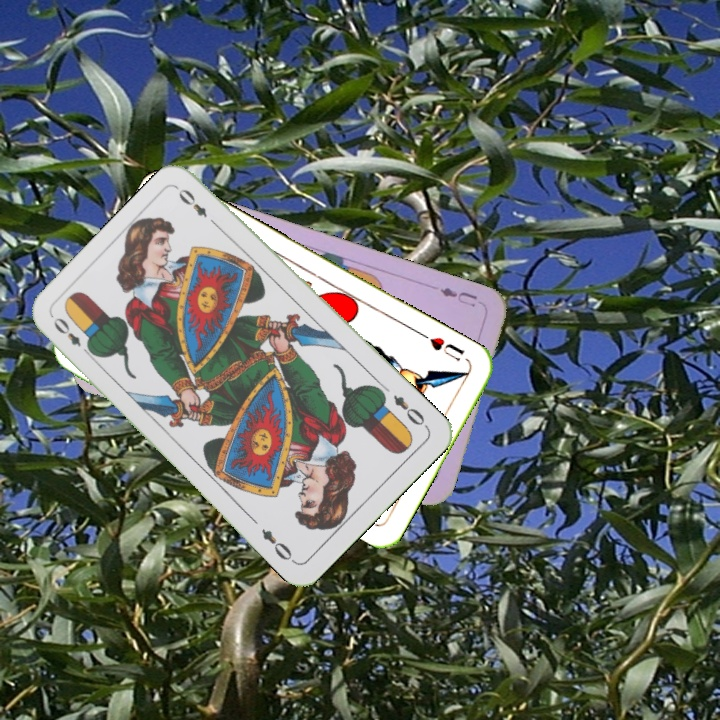EO: (49, 313, 95, 359), (389, 390, 431, 431)
EU: (435, 283, 480, 310)
HU: (425, 333, 467, 364)
